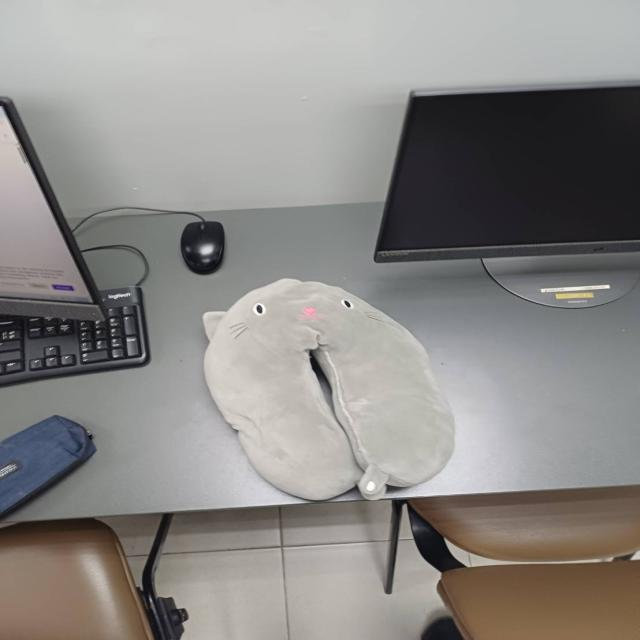pillow: (195, 275, 463, 508)
